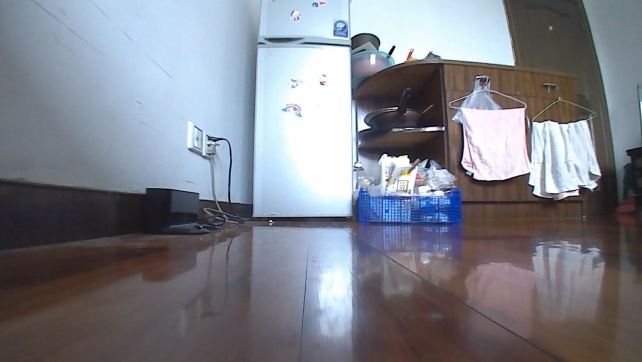charger: (139, 185, 217, 236)
door_anno: (499, 0, 621, 222)
refrigerator: (250, 0, 355, 225)
wire: (198, 133, 255, 229), (201, 141, 248, 225)
